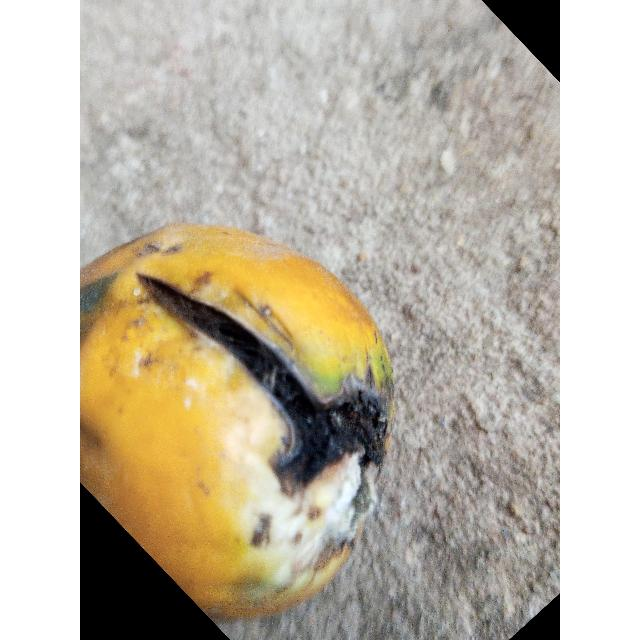damaged: (80, 223, 395, 630)
